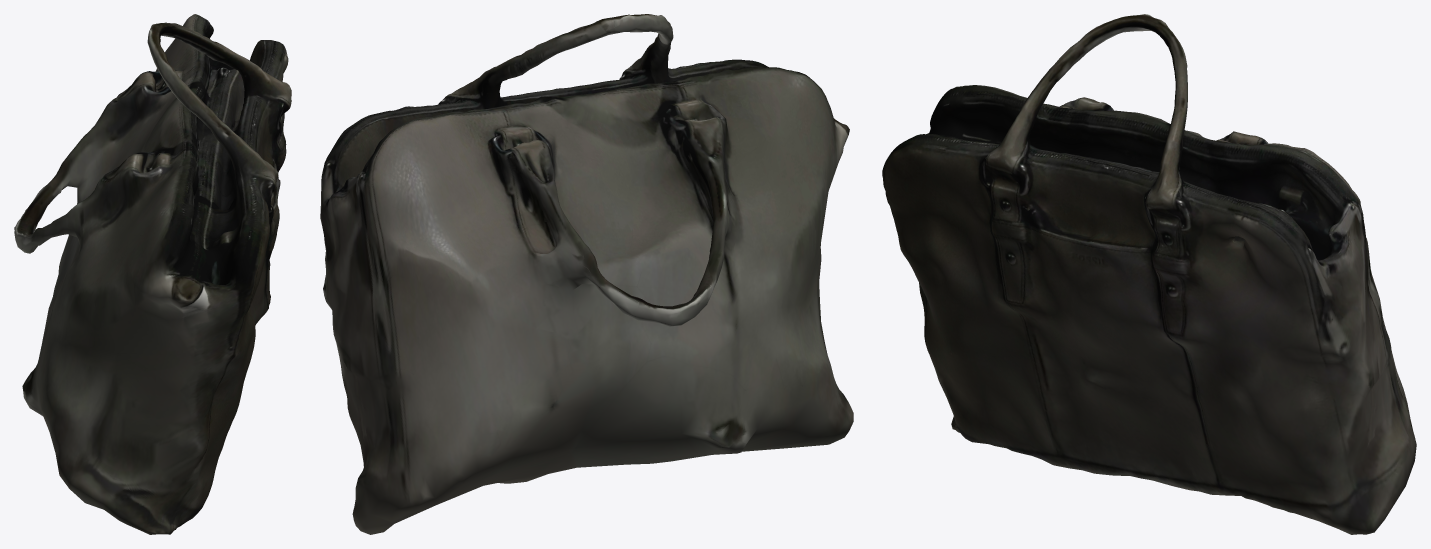
Rendered from Bag.fbx.
3 renders of one model, left to right at view 1: azimuth 30°, elevation 25°; view 2: azimuth 150°, elevation 25°; view 3: azimuth 270°, elevation 25°, orthographic. The views are drawn at different scales.
Parts seen in each view (by area): view 1: model; view 2: model; view 3: model.
Boxes of the visible parts, bbox=[...] form: model: bbox=[14, 14, 291, 534]; model: bbox=[320, 14, 853, 534]; model: bbox=[882, 14, 1416, 534].
Bounding box in the file's own units: 48.72 × 57.56 × 61.53.
